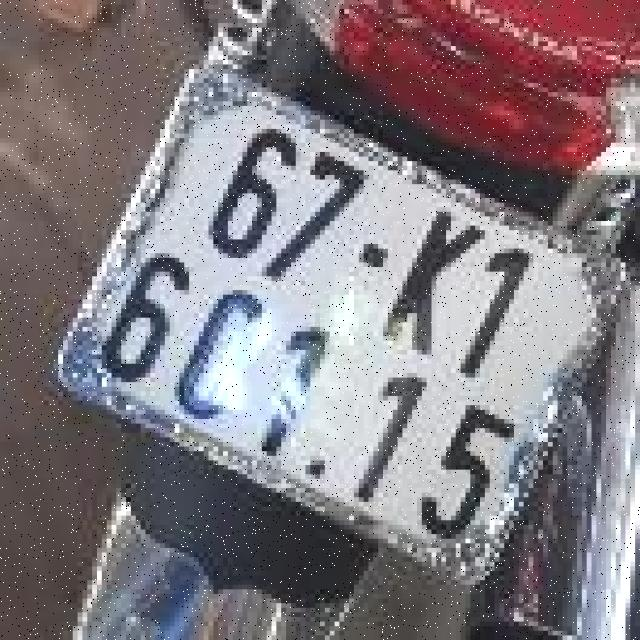0: (166, 274, 297, 439)
1: (243, 312, 358, 476), (332, 361, 444, 519), (444, 237, 552, 391)
5: (401, 393, 535, 553)
6: (200, 112, 317, 271), (90, 243, 209, 397)
7: (252, 143, 384, 305)
K: (371, 195, 504, 365)
